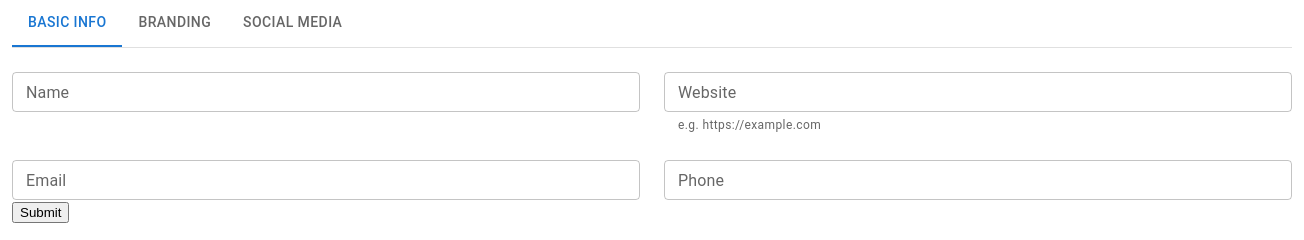
Test: SponsorForm › renders a validation error for a malformed website submitted before the field is blurred (so WebsiteInput has not yet normalized it)
Type "Riverside Hardware" into the field labelled "Name".
click(326, 92); type("Riverside Hardware")  # box [12, 72, 640, 112]
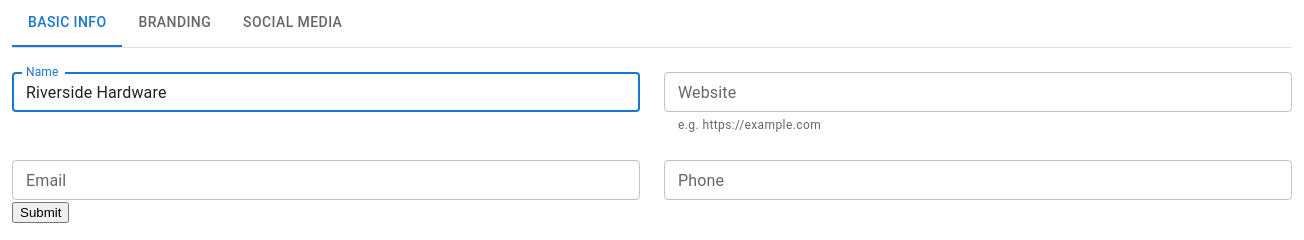
Type "not a url" into the field labelled "Website".
click(978, 92); type("not a url")  # box [664, 72, 1292, 112]
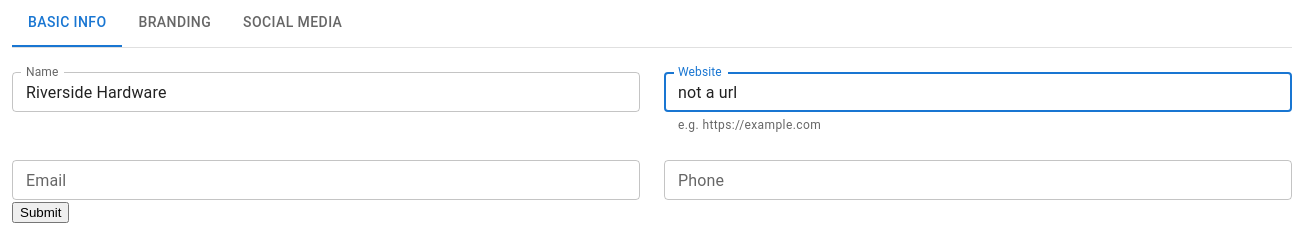
Submit the form labelled "Website", box [12, 72, 1292, 200]
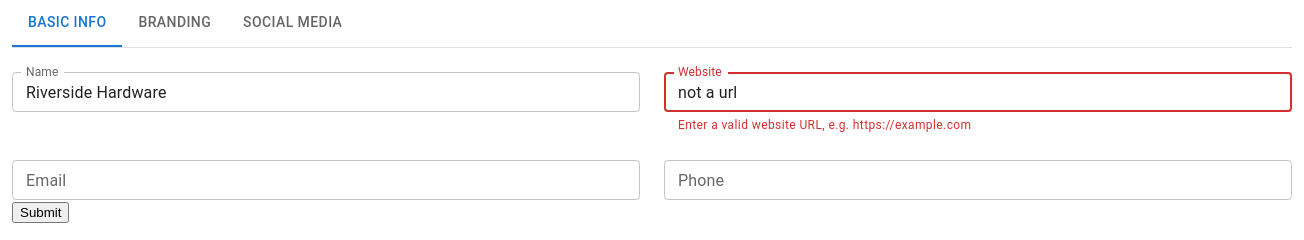
Expected: the text "Enter a valid website URL, e.g. https://example.com" is shown, [678, 118, 972, 132]
